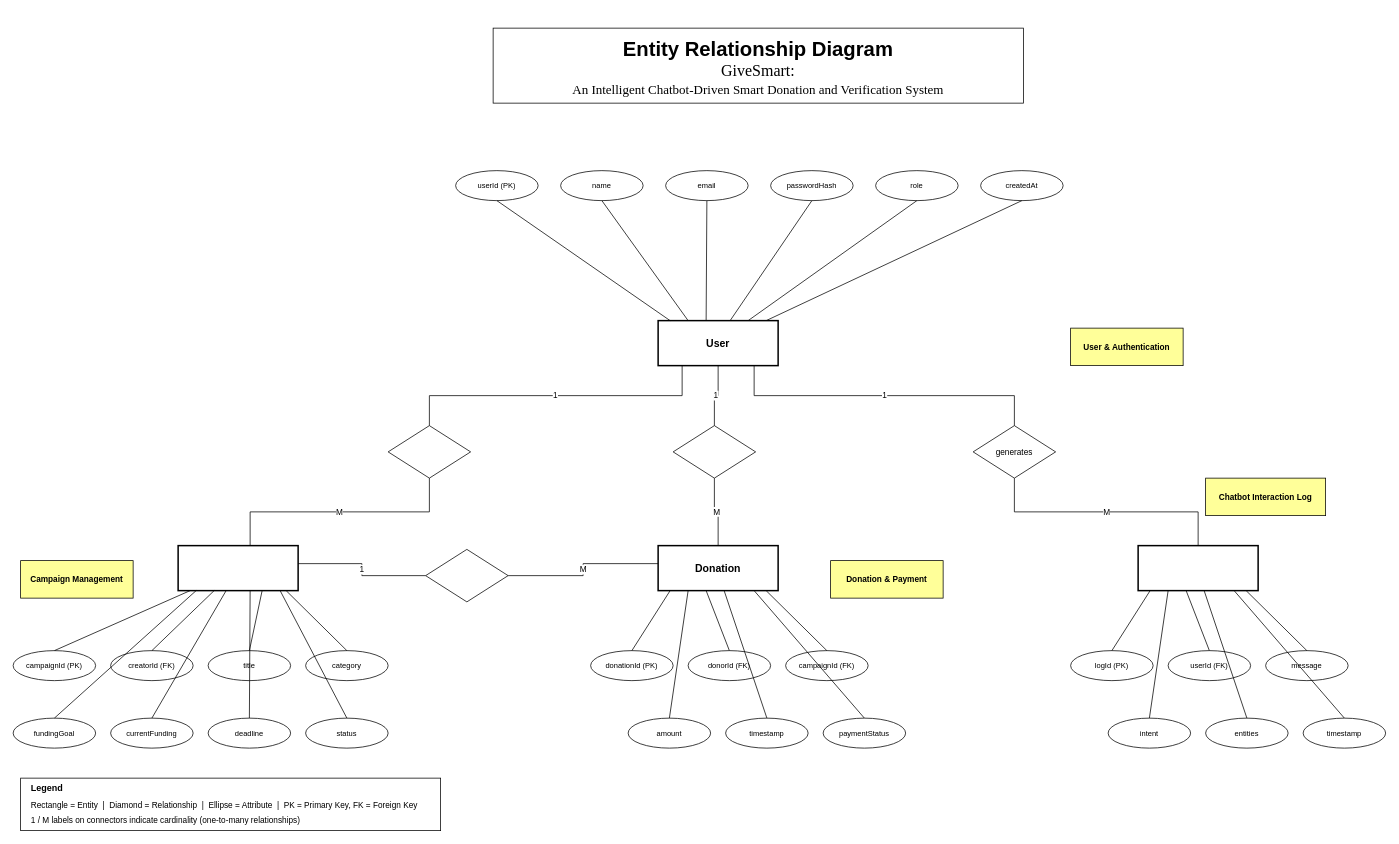
Some shapes in this 1399 by 844 pixel diagram are drawn without their labels. Each missing label, with the centre of its shape:
"Campaign" goes at (x=237, y=567).
"ChatLog" goes at (x=1197, y=567).
"creates" goes at (x=429, y=451).
"makes" goes at (x=714, y=451).
"receives" goes at (x=466, y=575).
